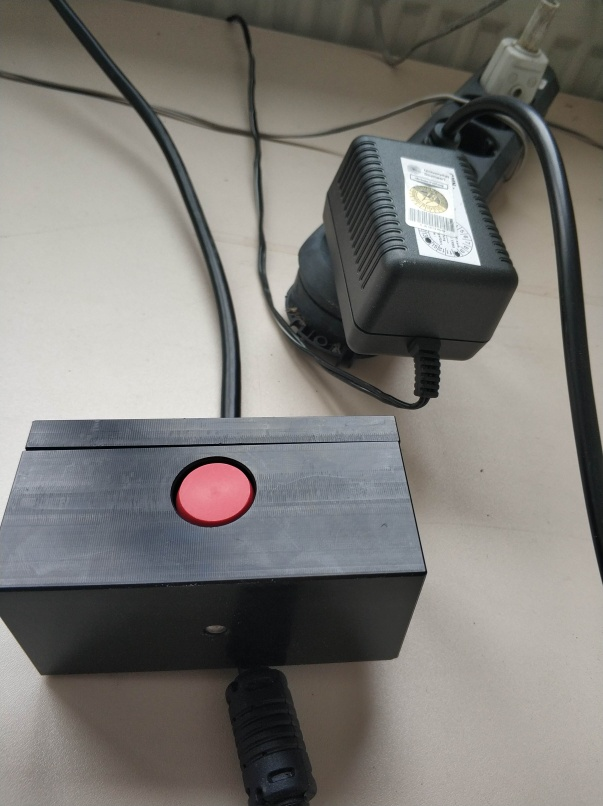black+black+red: (1, 412, 428, 679)
